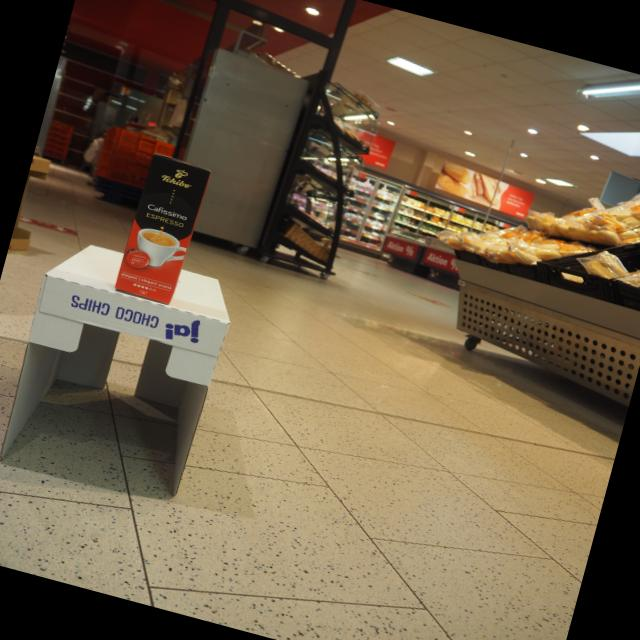Simo Es Elegant: (112, 151, 212, 307)
